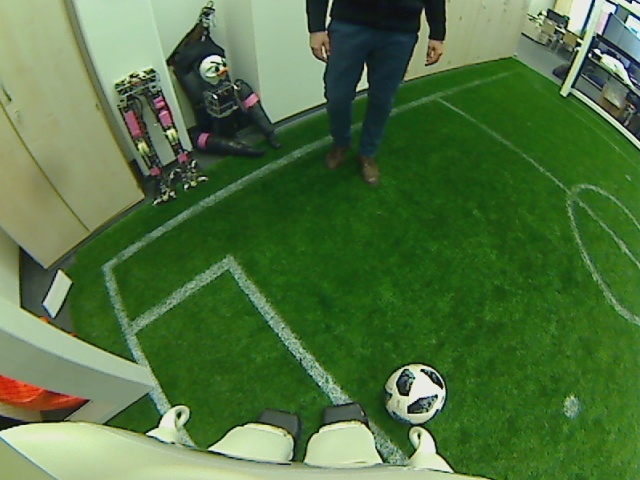ball: (381, 359, 447, 427)
